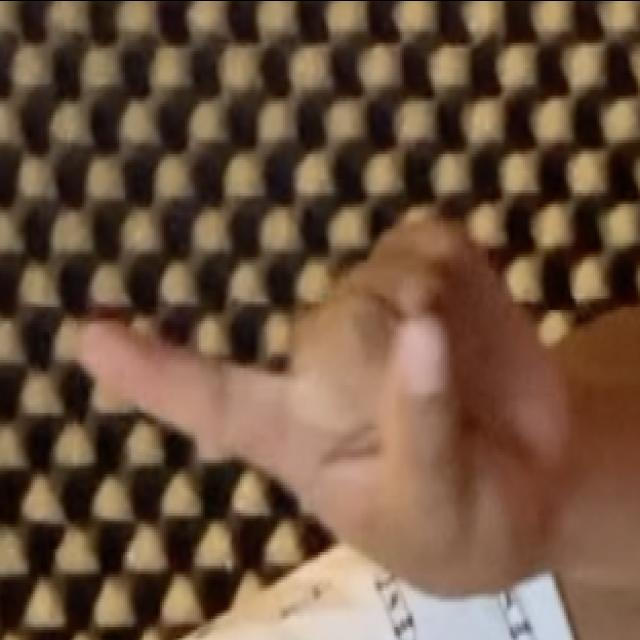Z: (75, 208, 593, 606)
